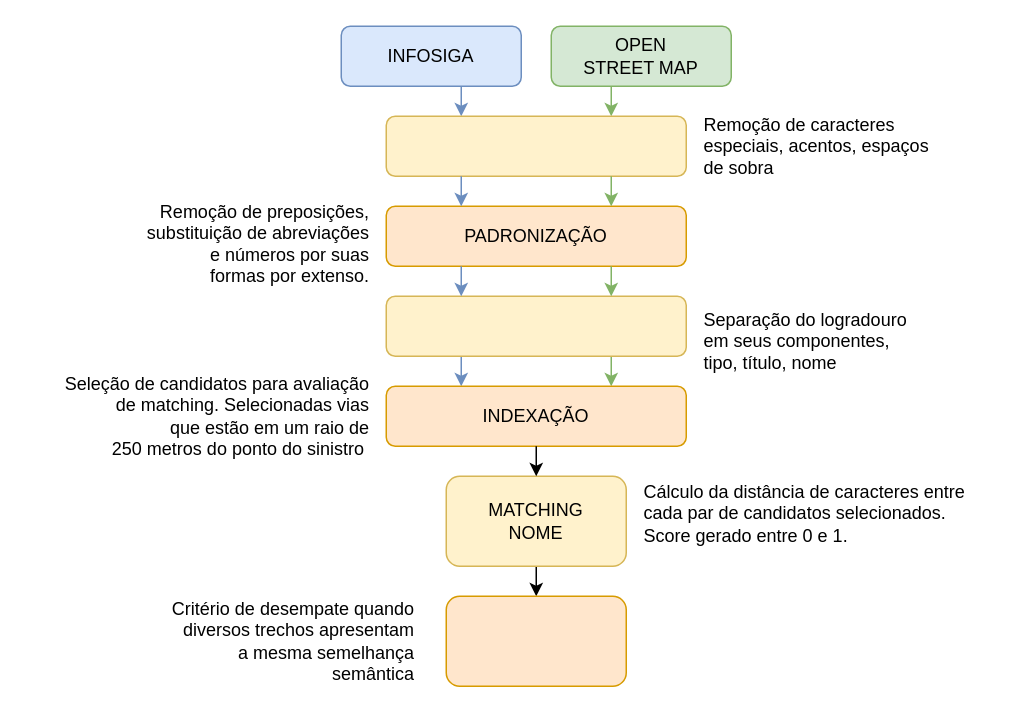
Image size: 1026x720. Some labels were removed from this diagram. The box of each missing label's shape, as (x1, y1, x2, y2) in pixels:
LIMPEZA: (385, 115, 686, 176)
MATCHING GEOGRÁFICO: (445, 595, 626, 686)
TOKENIZAÇÃO: (385, 295, 686, 356)
